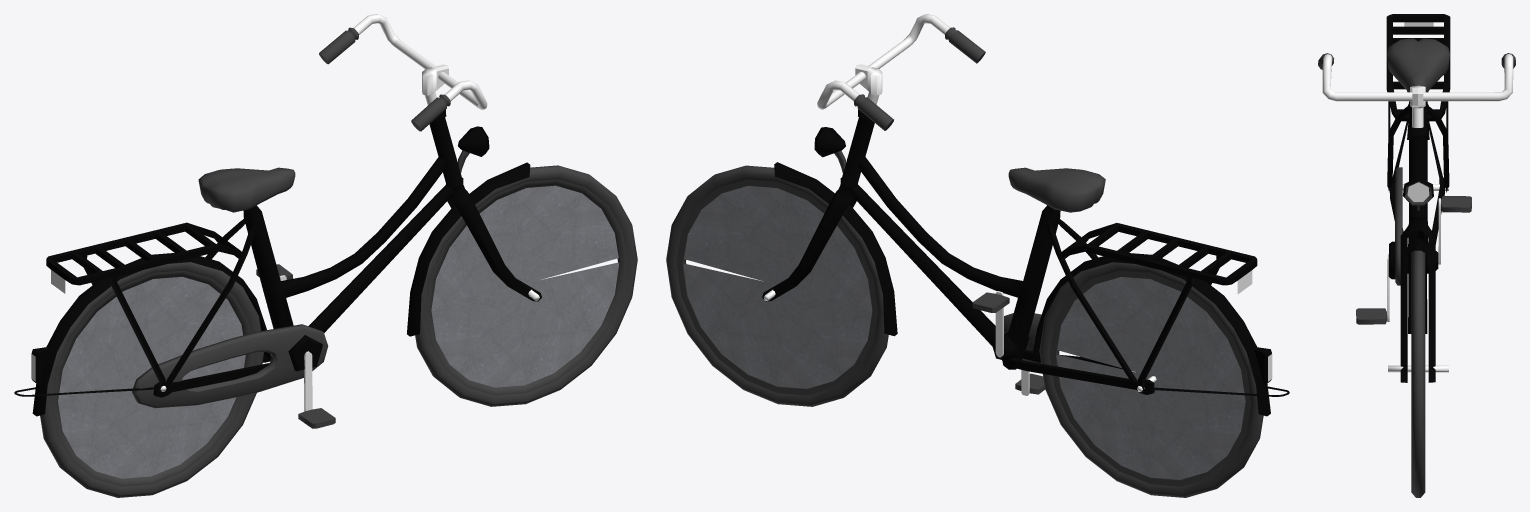
Rendered from Model_Bicycle.fbx.
3 renders of one model, left to right at view 1: azimuth 30°, elevation 25°; view 2: azimuth 150°, elevation 25°; view 3: azimuth 270°, elevation 25°, orthographic.
Visible parts, largest first — view 1: Bicycle_LOD0; view 2: Bicycle_LOD0; view 3: Bicycle_LOD0.
Boxes of the visible parts, box(x1,y1,x2,y2) form: Bicycle_LOD0: box(14, 14, 637, 497); Bicycle_LOD0: box(666, 14, 1289, 497); Bicycle_LOD0: box(1318, 14, 1515, 497).
Size of what is drawn, in the model's own units: 220 by 129 by 60.88.
